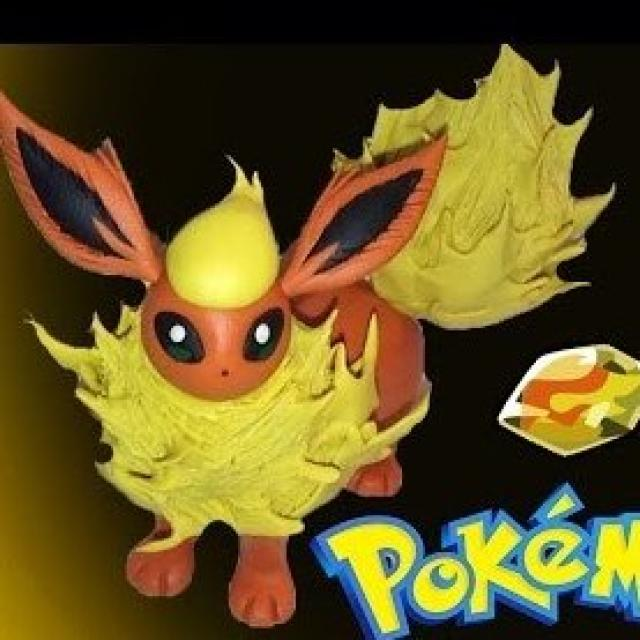Flareon: (0, 181, 433, 581)
